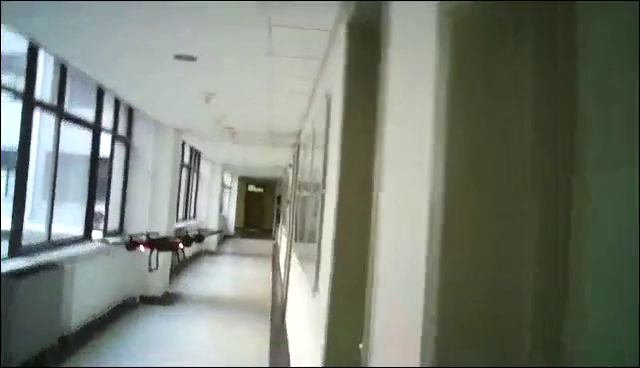drone: (109, 229, 226, 273)
